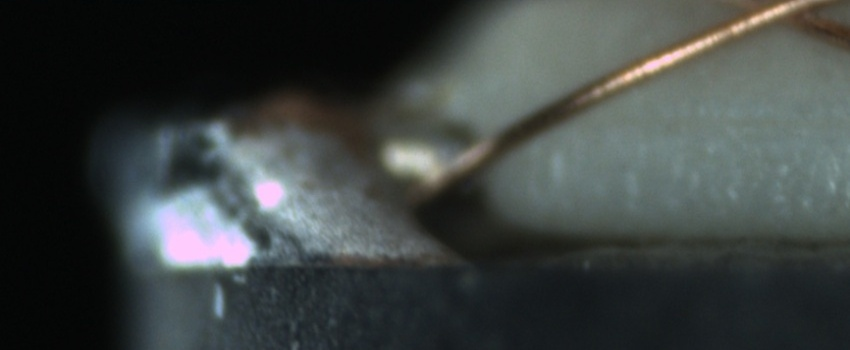CL: (717, 1, 835, 39)
DL: (614, 86, 849, 156)
